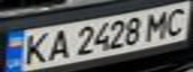2: (72, 23, 96, 57), (109, 16, 130, 50)
4: (93, 19, 115, 53)
8: (121, 15, 148, 46)
A: (42, 27, 72, 62)
C: (160, 3, 193, 38)
K: (18, 30, 54, 66)
M: (142, 9, 175, 40)
